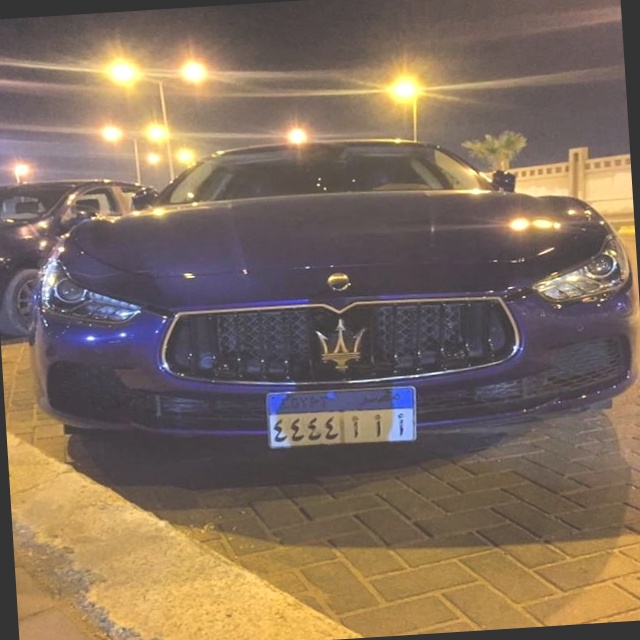License Plate: (264, 381, 421, 453)
